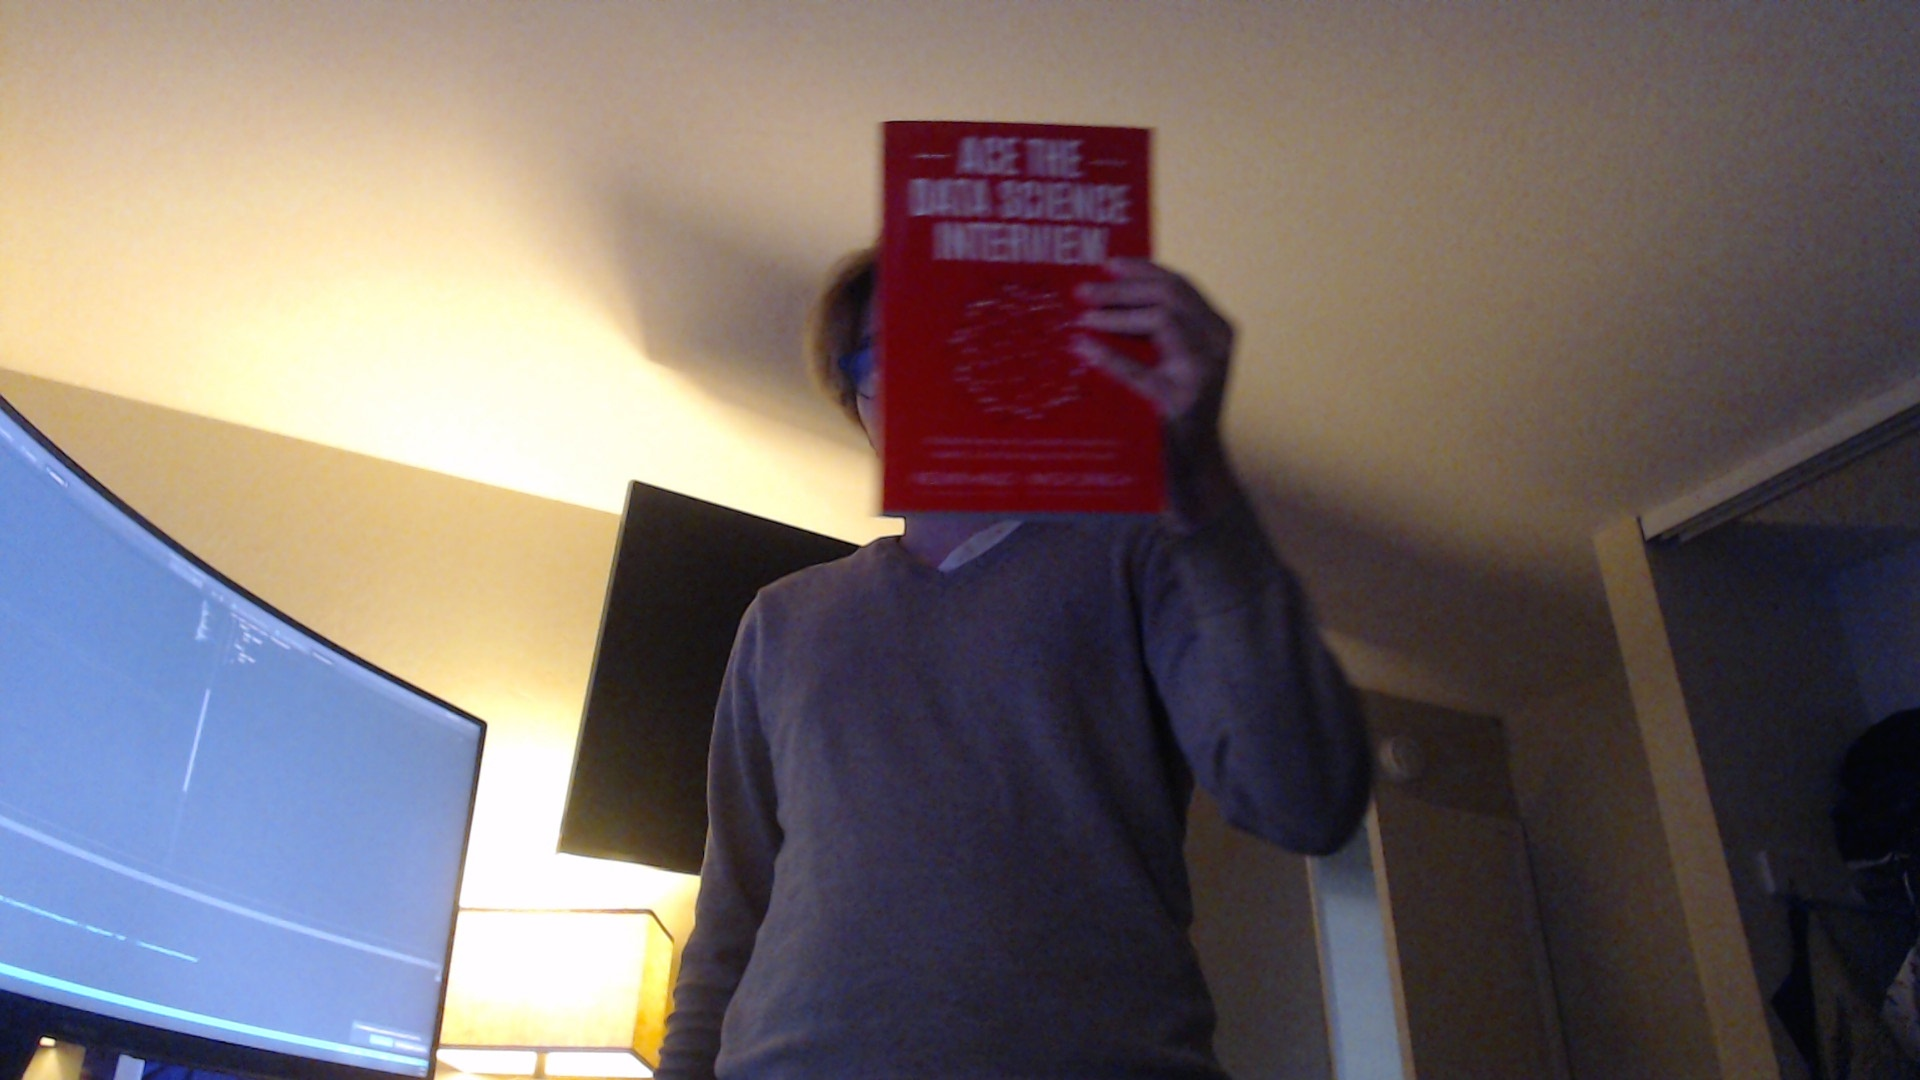book: (872, 117, 1167, 521)
